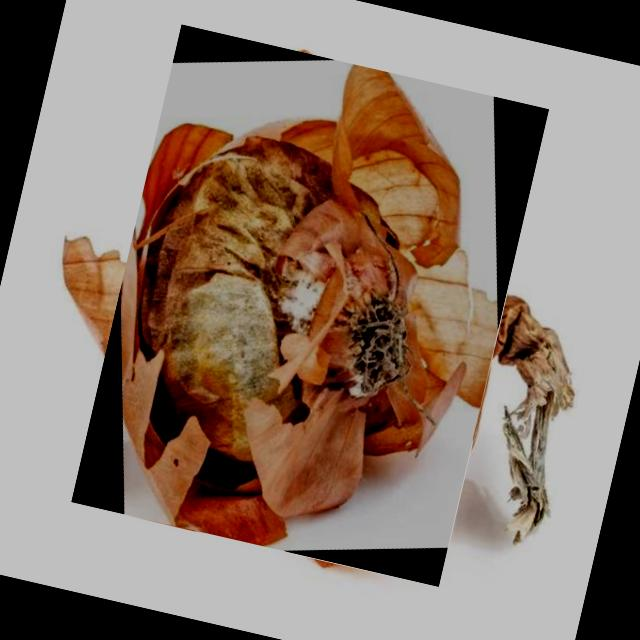rotten: (120, 65, 490, 545)
